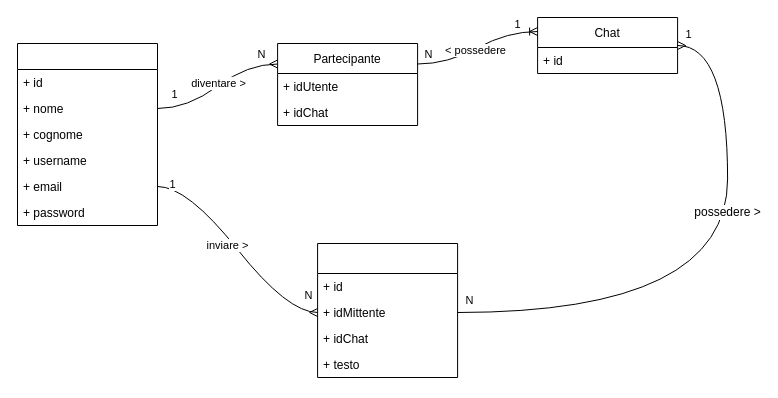
This 778x398 diagram has some shape labels left out. The shapes that lost their labels are listed below. From the top down, each one's box as (x1, y1, x2, y2) in pixels, then its label:
(16, 42, 158, 226): Utente
(317, 242, 458, 378): Messaggio
